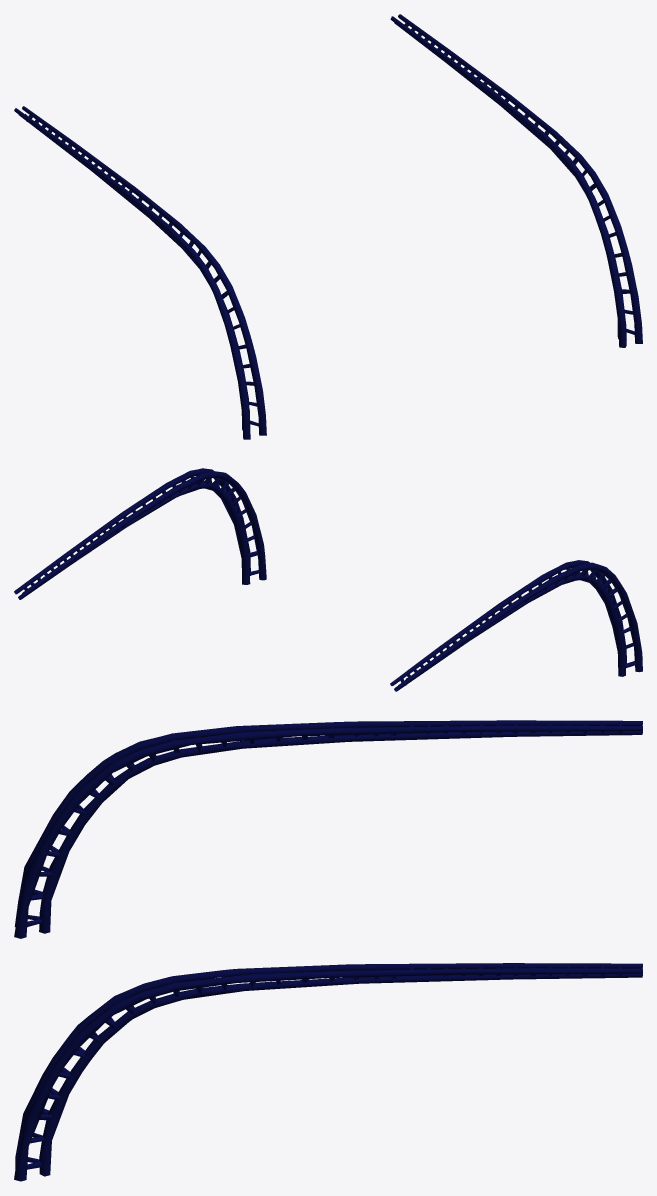
The model's file is Al_Nasar_Football_Stadium_NurbsPath_025.FBX.
3 renders of one model, top to bottom at view 1: azimuth 30°, elevation 25°; view 2: azimuth 150°, elevation 25°; view 3: azimuth 270°, elevation 25°, orthographic. The views are drawn at different scales.
Parts seen in each view (by area): view 1: Al_Nasar_Football_Stadium_NurbsPath_025; view 2: Al_Nasar_Football_Stadium_NurbsPath_025; view 3: Al_Nasar_Football_Stadium_NurbsPath_025.
Boxes of the visible parts, x1,y1,x2,y2 form: Al_Nasar_Football_Stadium_NurbsPath_025: (14,14,642,439); Al_Nasar_Football_Stadium_NurbsPath_025: (14,468,642,691); Al_Nasar_Football_Stadium_NurbsPath_025: (14,720,642,1181).
Bounding box in the file's own units: 6402 × 6606 × 2424.
